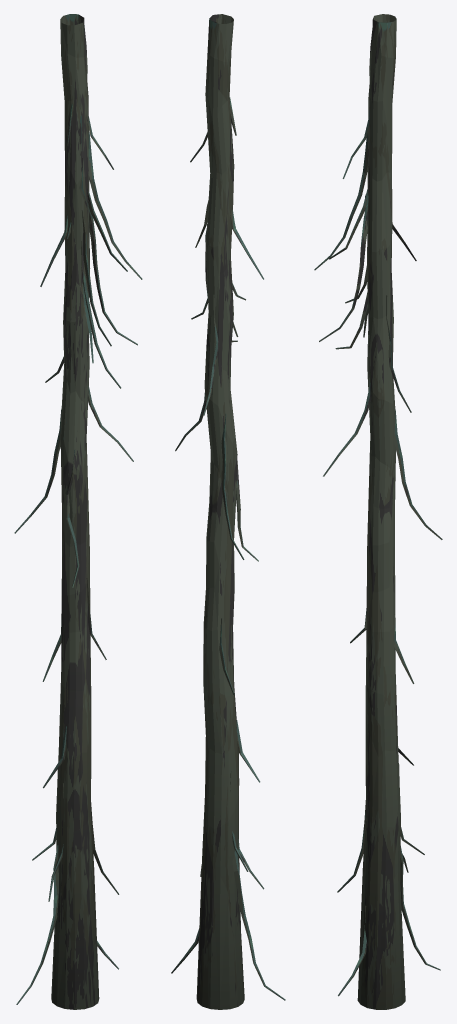
File: TREE_B.fbx
3 renders of one model, left to right at view 1: azimuth 90°, elevation 25°; view 2: azimuth 210°, elevation 25°; view 3: azimuth 270°, elevation 25°, orthographic.
Visible parts, largest first — view 1: TREE_B; view 2: TREE_B; view 3: TREE_B.
Part boxes in pixels (<box>): TREE_B: <box>14,14,142,1009</box>; TREE_B: <box>171,14,285,1009</box>; TREE_B: <box>314,14,442,1009</box>.
Bounding box in the file's own units: 239 × 2960 × 351.
